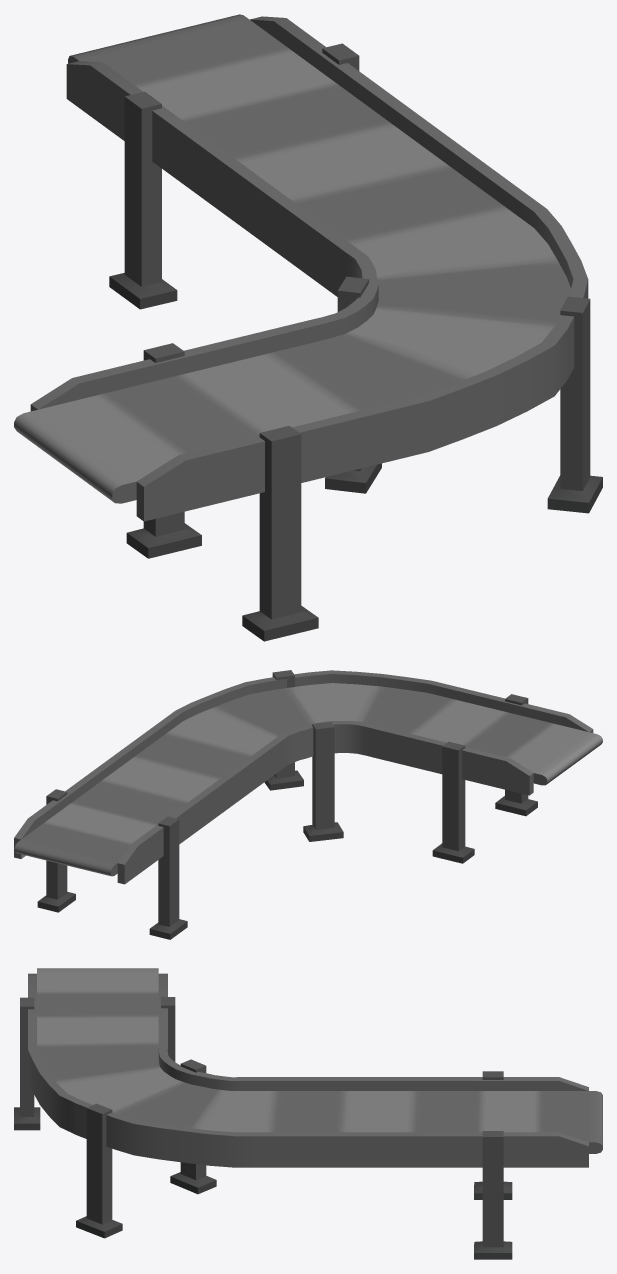
The model's file is SM_Conveyor.fbx.
3 views of the same model, one above another, from view 1: azimuth 30°, elevation 25°; view 2: azimuth 150°, elevation 25°; view 3: azimuth 270°, elevation 25° (orthographic). The views are drawn at different scales.
Parts seen in each view (by area): view 1: Cube.002; view 2: Cube.002; view 3: Cube.002.
Part boxes in pixels (bbox=[...]): Cube.002: bbox=[14, 14, 602, 641]; Cube.002: bbox=[14, 670, 602, 939]; Cube.002: bbox=[14, 968, 602, 1259].
Size of the model in its own units: 311 by 93.72 by 417.
